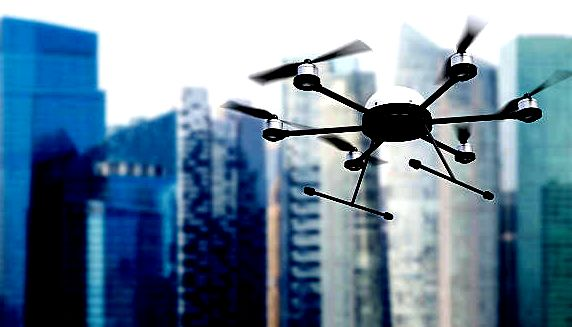Drone: (220, 13, 567, 221)
